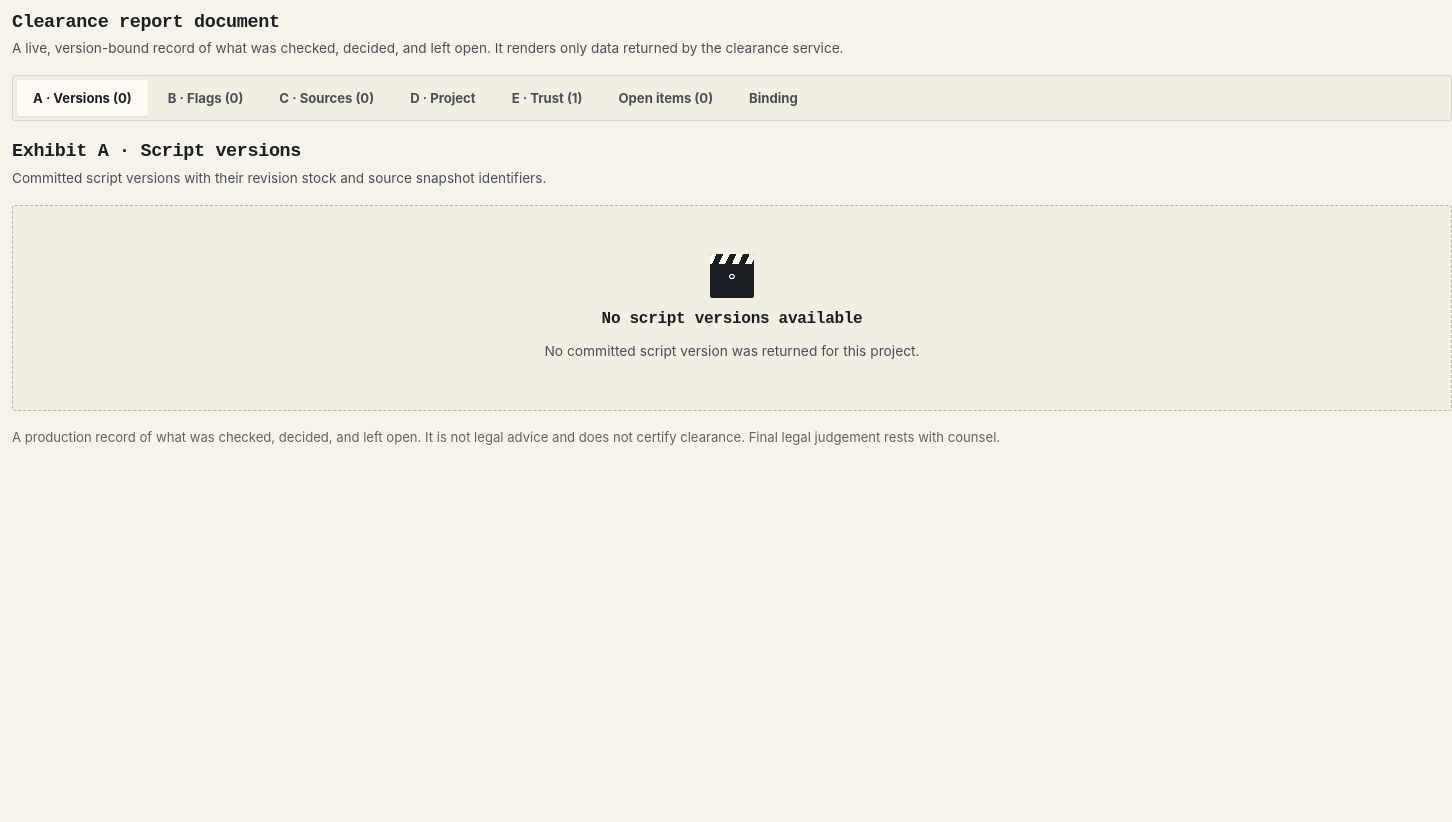
ReportDocument renders only real data › renders Exhibit E monitoring runs and trust evaluations
Step 1. Click the button "E · Trust (1)" → click(547, 98), box x1=496 y1=80 x2=598 y2=116
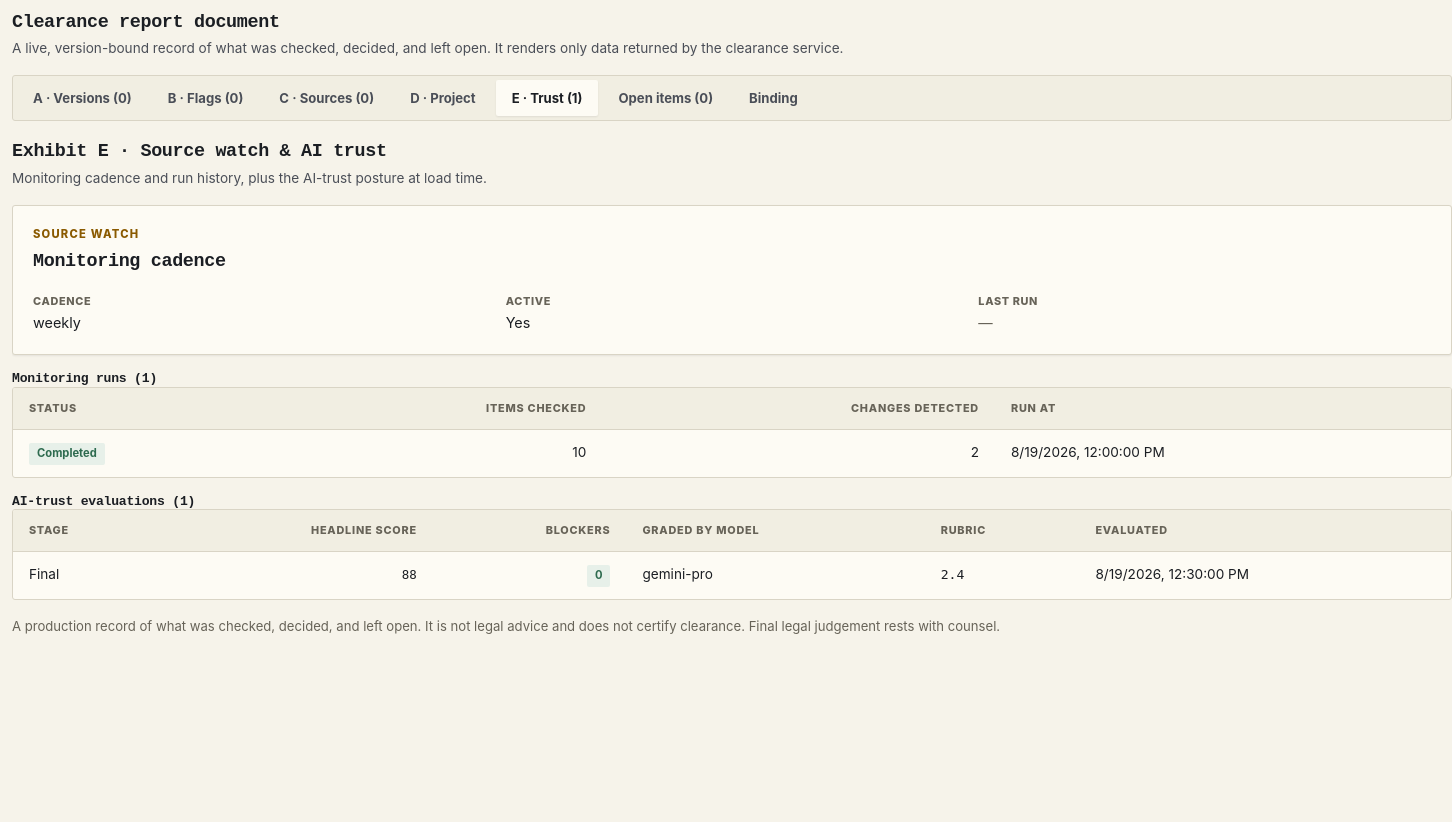
Now the text "weekly" is shown, box x1=33 y1=314 x2=81 y2=331
Now the text "gemini-pro" is shown, box x1=626 y1=552 x2=925 y2=599
Now the text "88" is shown, box x1=402 y1=567 x2=417 y2=582
